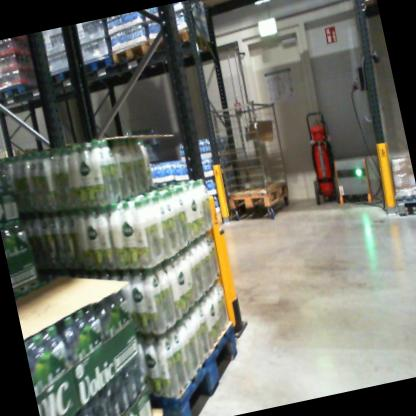pallet: (125, 319, 262, 416), (146, 17, 221, 73), (105, 30, 183, 83), (221, 174, 305, 223), (68, 41, 135, 92), (0, 74, 48, 116), (384, 185, 416, 227), (46, 58, 82, 89)
